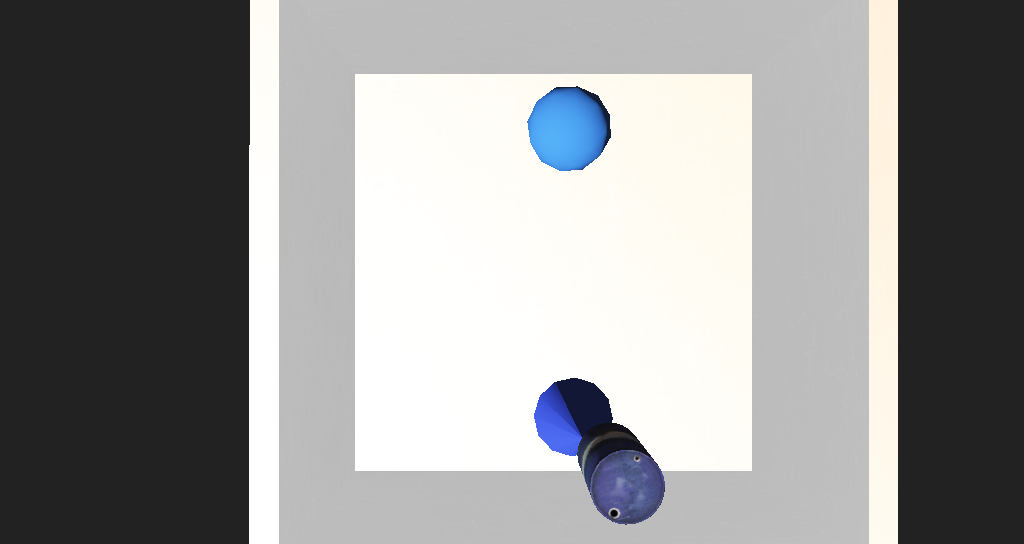cone: (519, 344, 573, 391)
cylinder: (495, 327, 556, 379)
sphere: (488, 167, 549, 215)
